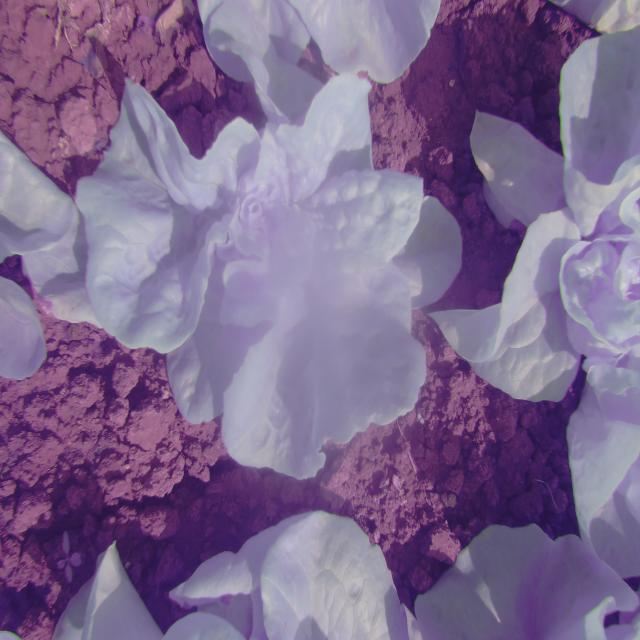vege: (63, 64, 466, 478)
